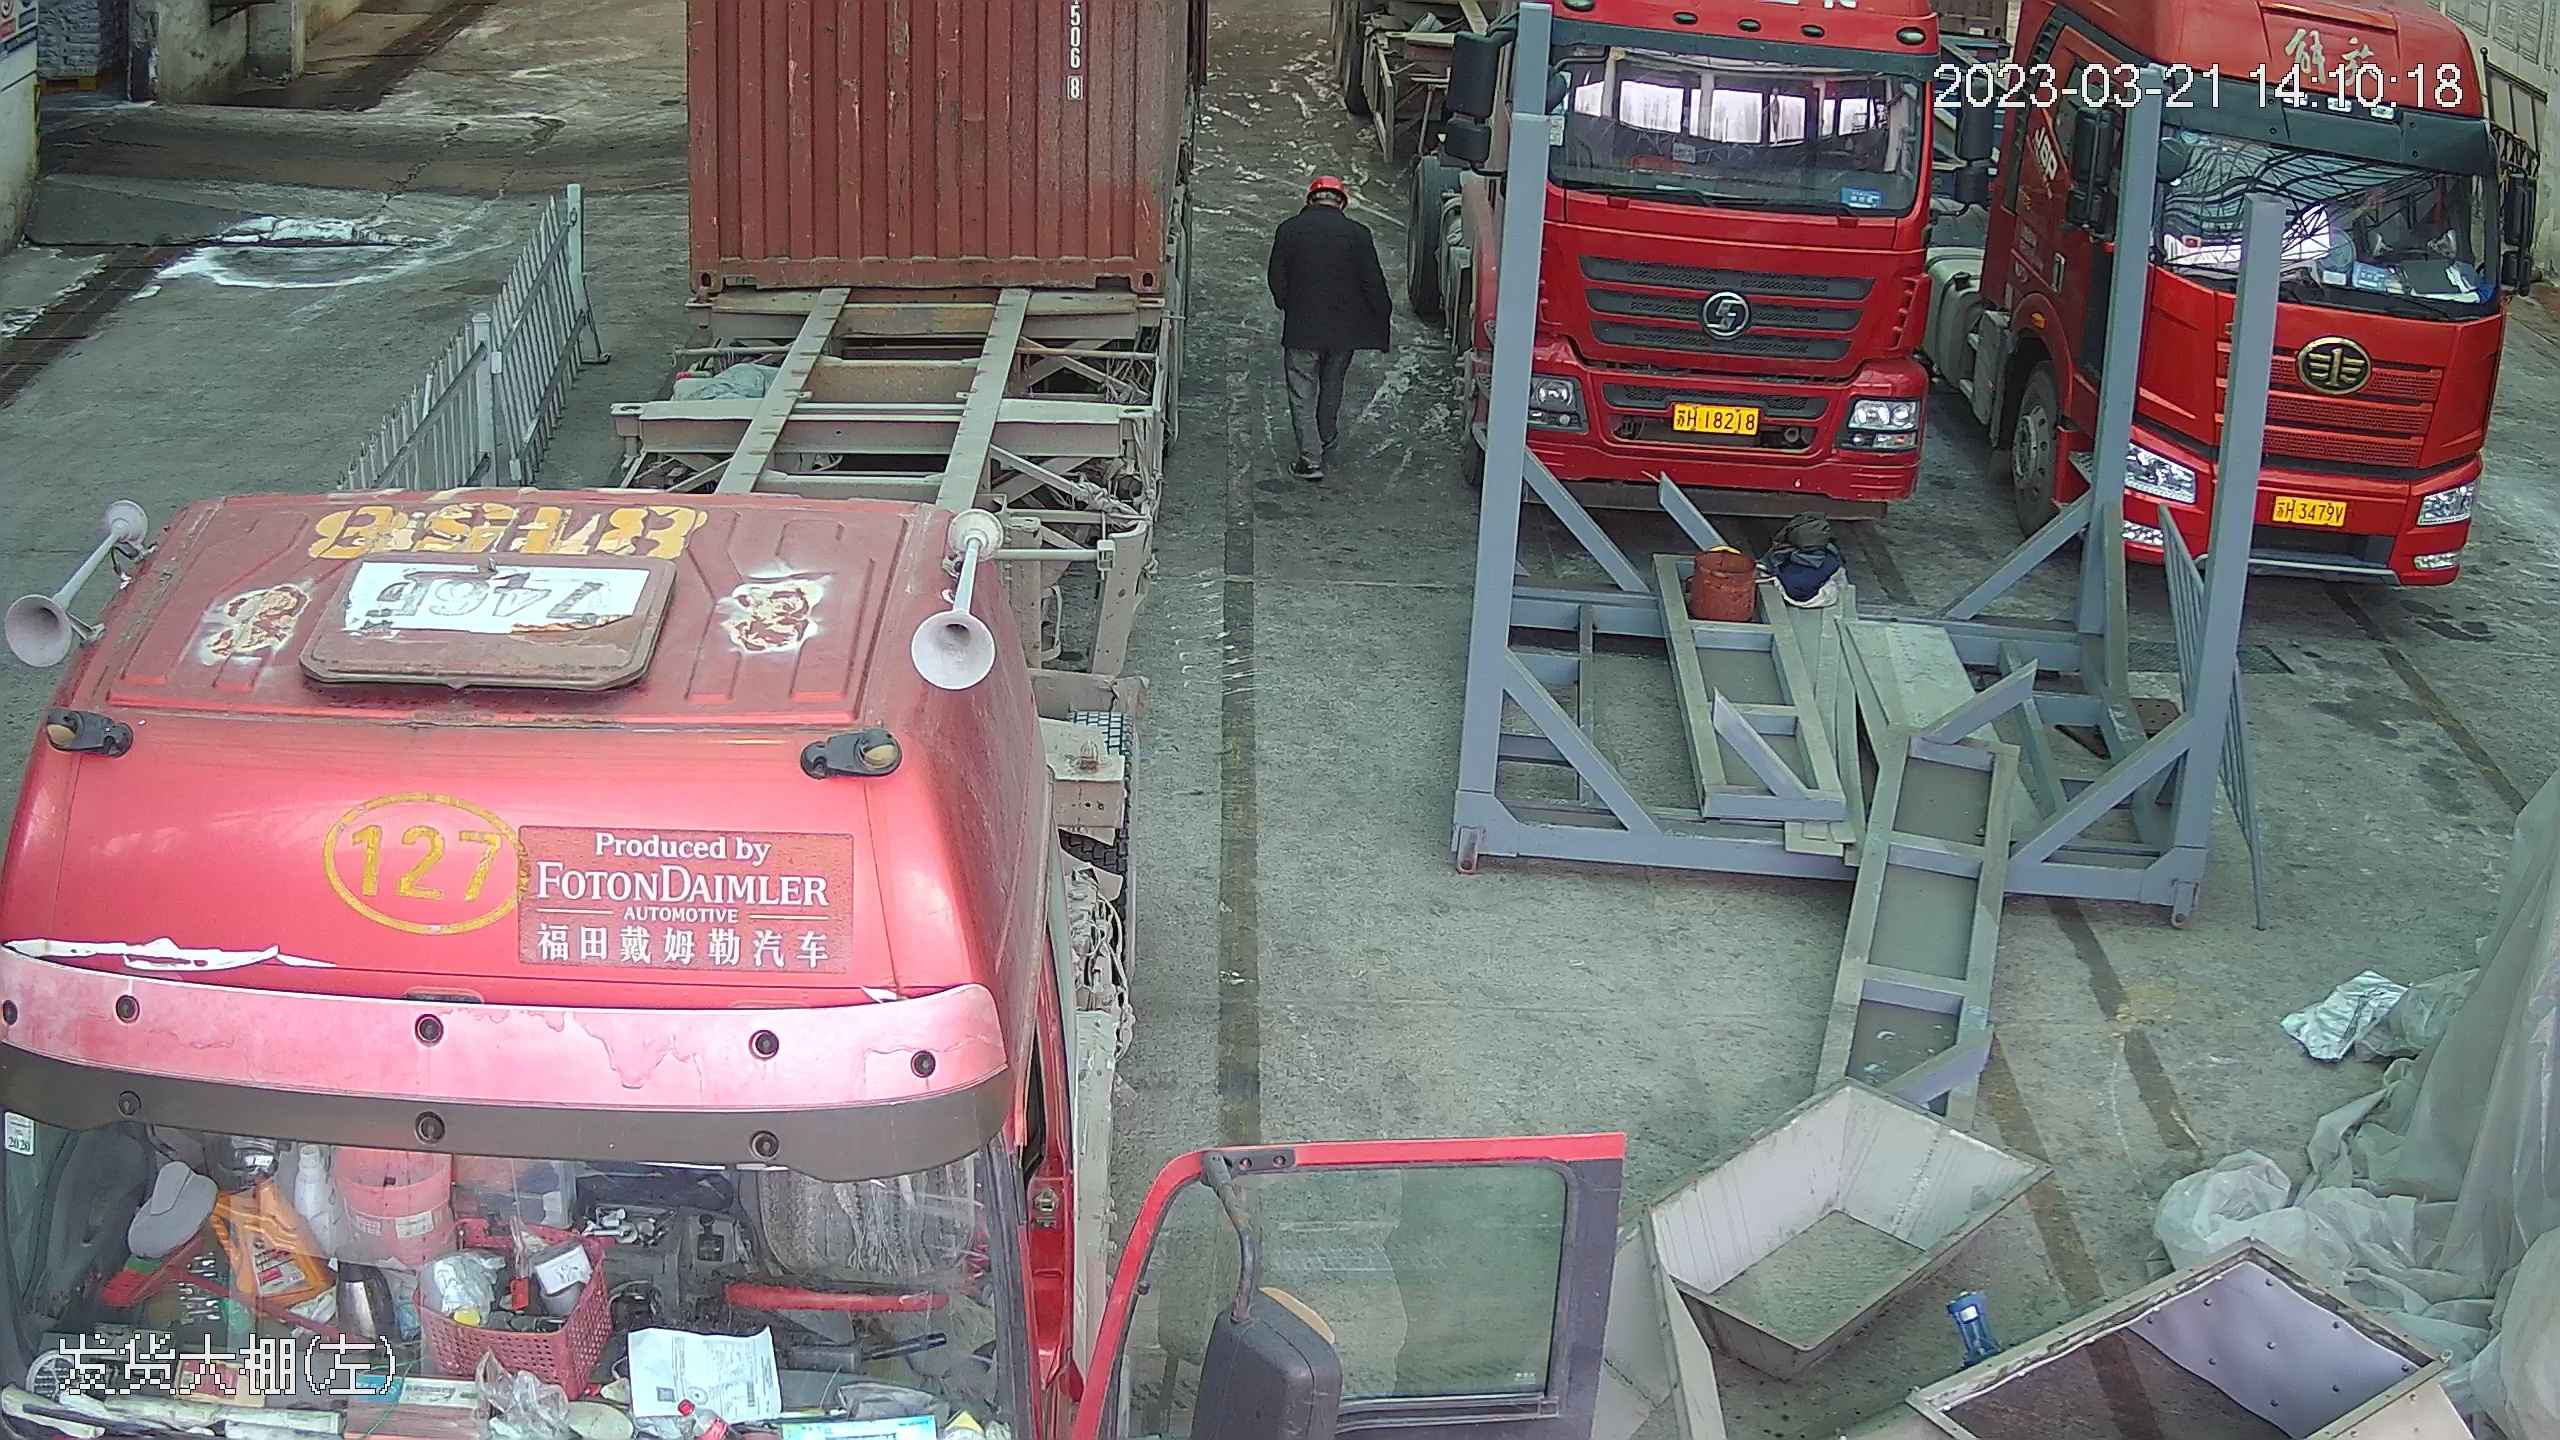head: (1278, 170, 1370, 251), (442, 1308, 487, 1354)
helmet: (1307, 170, 1346, 199), (453, 1309, 481, 1329)
people: (1264, 162, 1395, 487)
truck: (0, 0, 1175, 1440), (1994, 0, 2547, 591), (1512, 1, 1951, 523)
